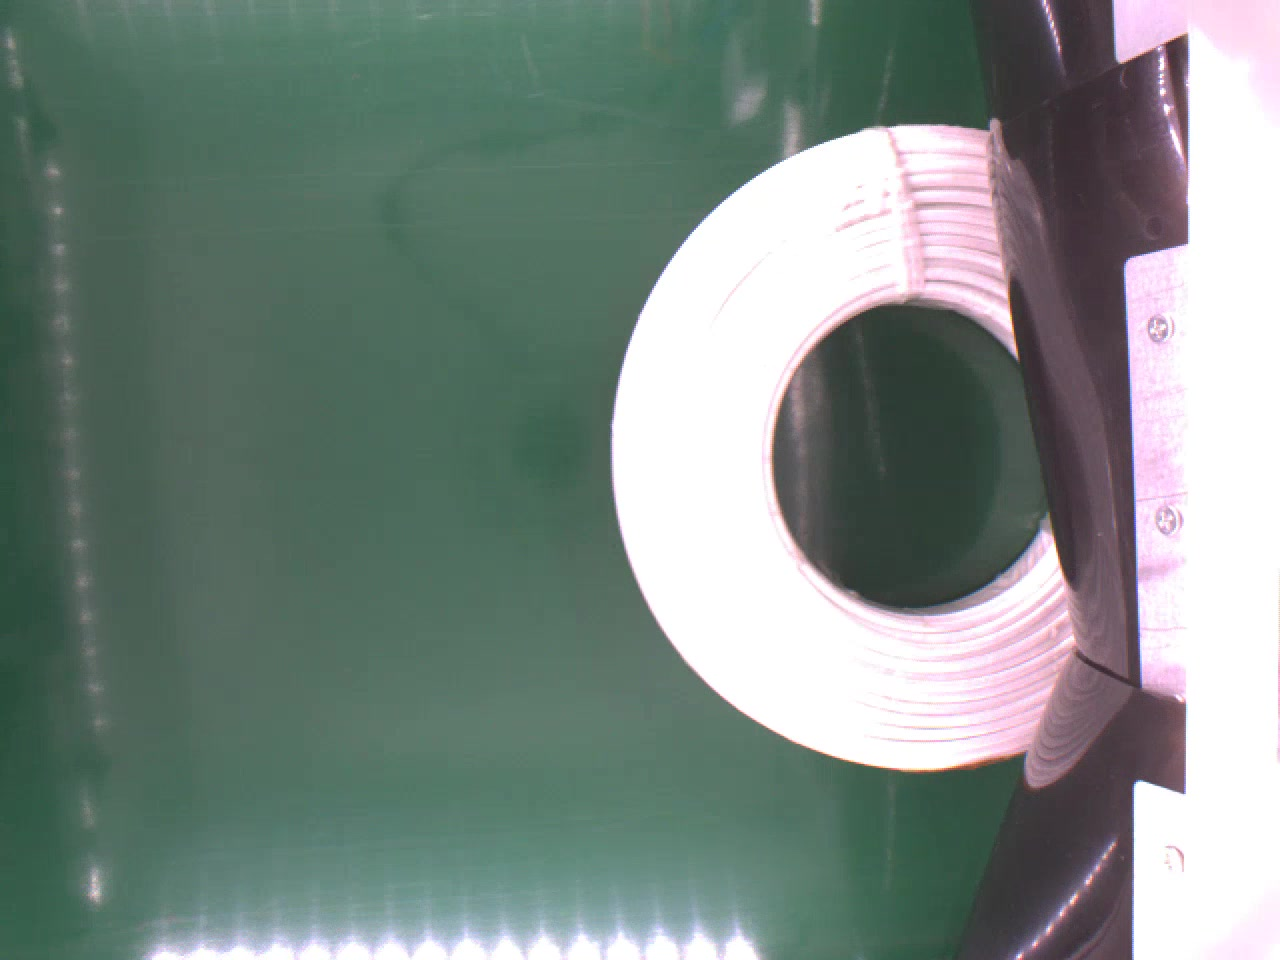white: (609, 115, 1077, 772)
